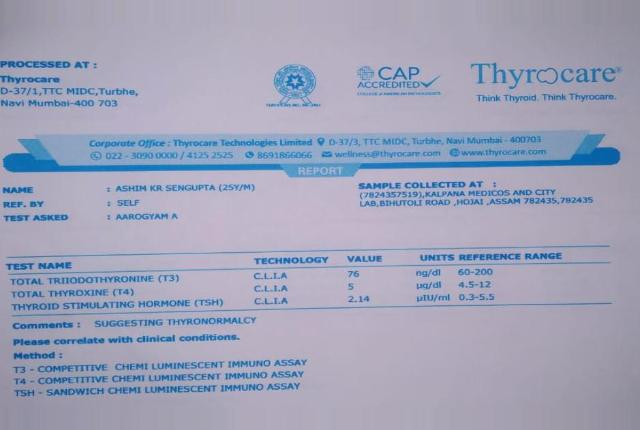Clinical_Conditions: (6, 362, 319, 407)
Name: (116, 181, 257, 194)
Ref_By: (114, 198, 146, 208)
Reference_Range: (458, 265, 500, 305)
Technology: (248, 270, 299, 311)
Test_Asked: (115, 211, 186, 226)
Test_Name: (5, 275, 230, 314)
Unit: (413, 266, 454, 306)
Value: (345, 267, 374, 308)
